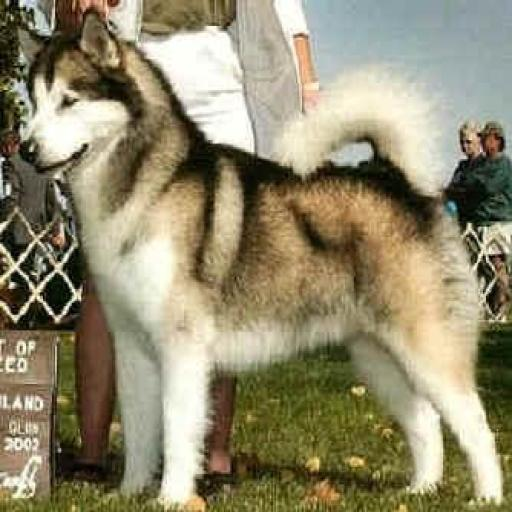dog_face: (8, 17, 130, 180)
